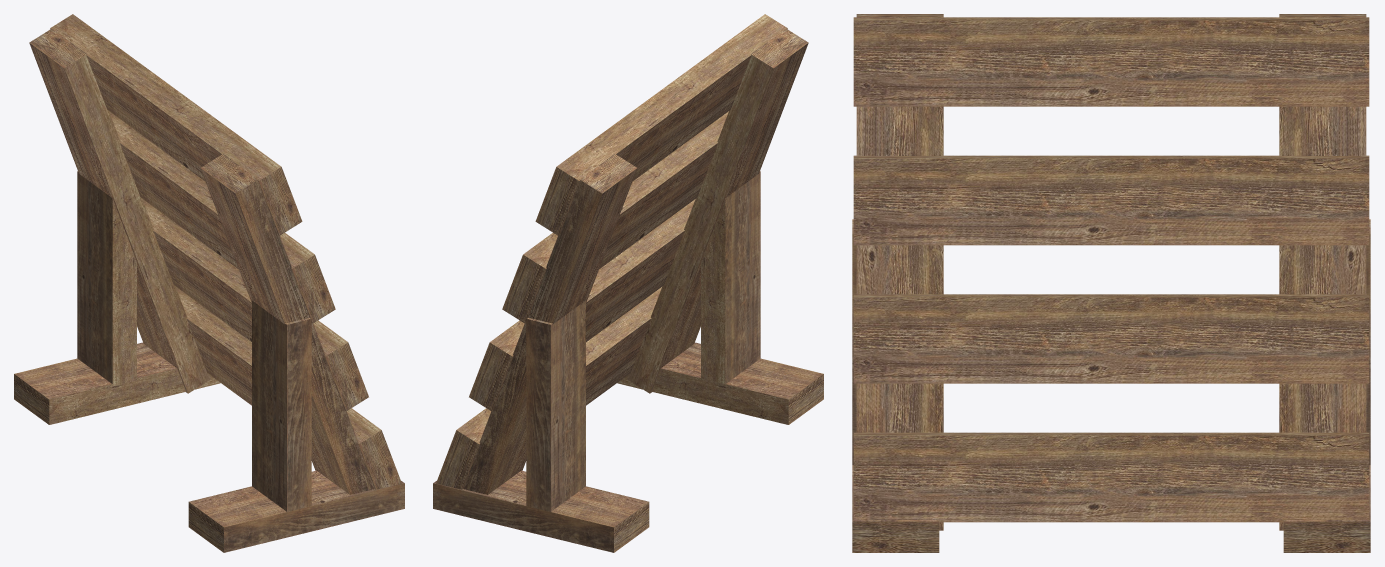
Rendered from blockade.glb.
3 renders of one model, left to right at view 1: azimuth 30°, elevation 25°; view 2: azimuth 150°, elevation 25°; view 3: azimuth 270°, elevation 25°, orthographic. The views are drawn at different scales.
Parts seen in each view (by area): view 1: Cube.008, Cube.009, Cube.010, Cube.011; view 2: Cube.008, Cube.009, Cube.010, Cube.011; view 3: Cube.008, Cube.009, Cube.011, Cube.010.
Boxes of the visible parts, x1,y1,x2,y2 form: Cube.008: (50, 14, 401, 489); Cube.009: (29, 28, 374, 494); Cube.010: (77, 171, 311, 512); Cube.011: (14, 342, 404, 552); Cube.008: (436, 14, 787, 489); Cube.009: (463, 28, 808, 494); Cube.010: (526, 171, 760, 511); Cube.011: (433, 342, 823, 552); Cube.008: (853, 17, 1369, 522); Cube.009: (856, 14, 1366, 530); Cube.011: (852, 465, 1370, 552); Cube.010: (852, 219, 1370, 465).
Bounding box in the file's own units: 0.75 × 1.47 × 1.51.
Materials: 1 (1 with a texture image).
